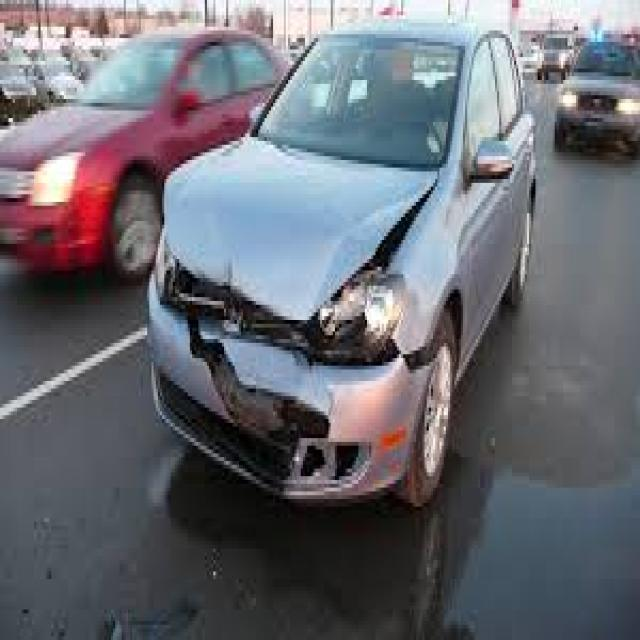moderate: (155, 147, 465, 450)
